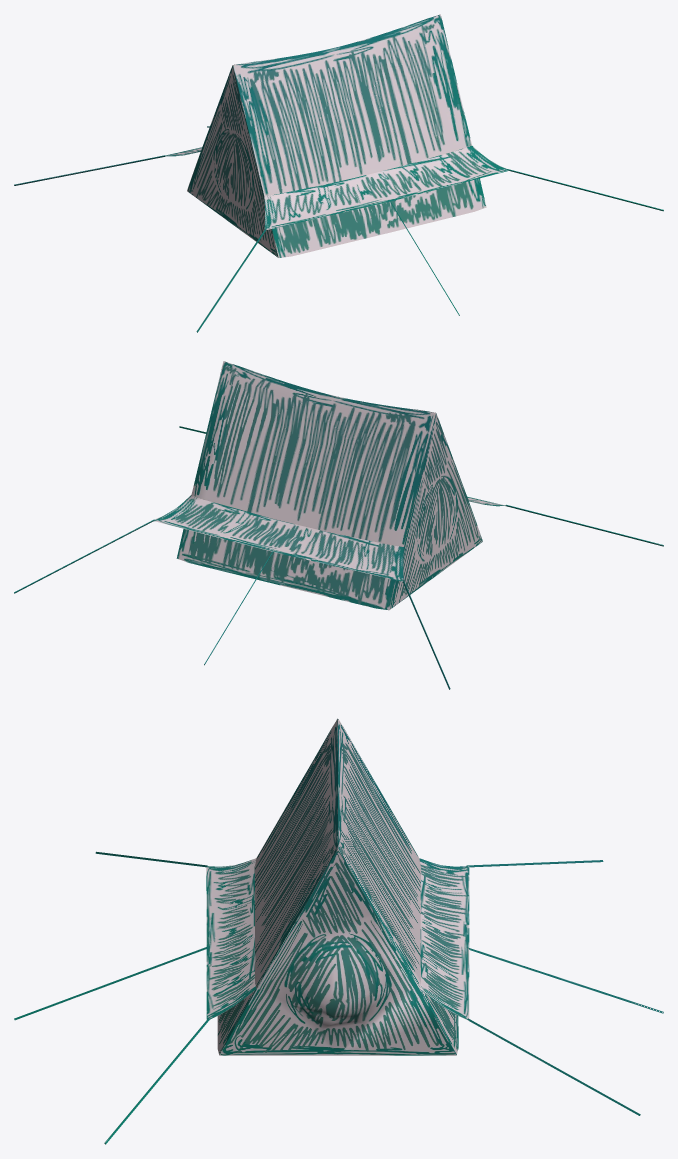
The model's file is tent2_1953.glb.
3 renders of one model, top to bottom at view 1: azimuth 30°, elevation 25°; view 2: azimuth 150°, elevation 25°; view 3: azimuth 270°, elevation 25°, orthographic. The views are drawn at different scales.
Parts seen in each view (by area): view 1: tente2_1953; view 2: tente2_1953; view 3: tente2_1953.
Boxes of the visible parts, bbox=[...] form: tente2_1953: bbox=[14, 14, 663, 332]; tente2_1953: bbox=[14, 361, 663, 689]; tente2_1953: bbox=[14, 718, 663, 1144].
Size of the model in its own units: 7.74 by 2.89 by 7.16.
Materials: 1 (1 with a texture image).
